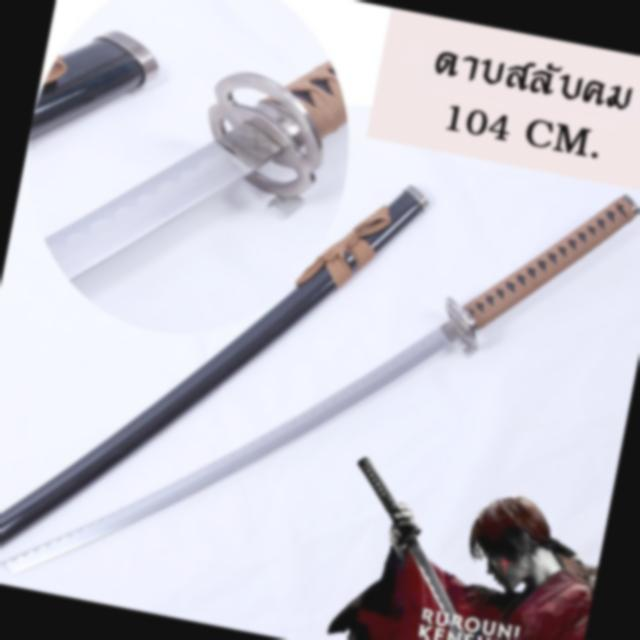long sword: (0, 85, 640, 640), (36, 12, 360, 328)
